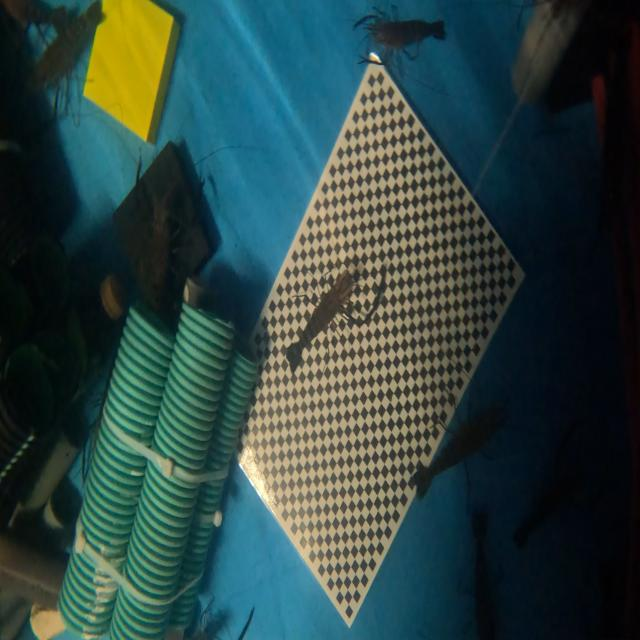prawn: (418, 403, 508, 496), (288, 270, 356, 366), (357, 14, 445, 48)
